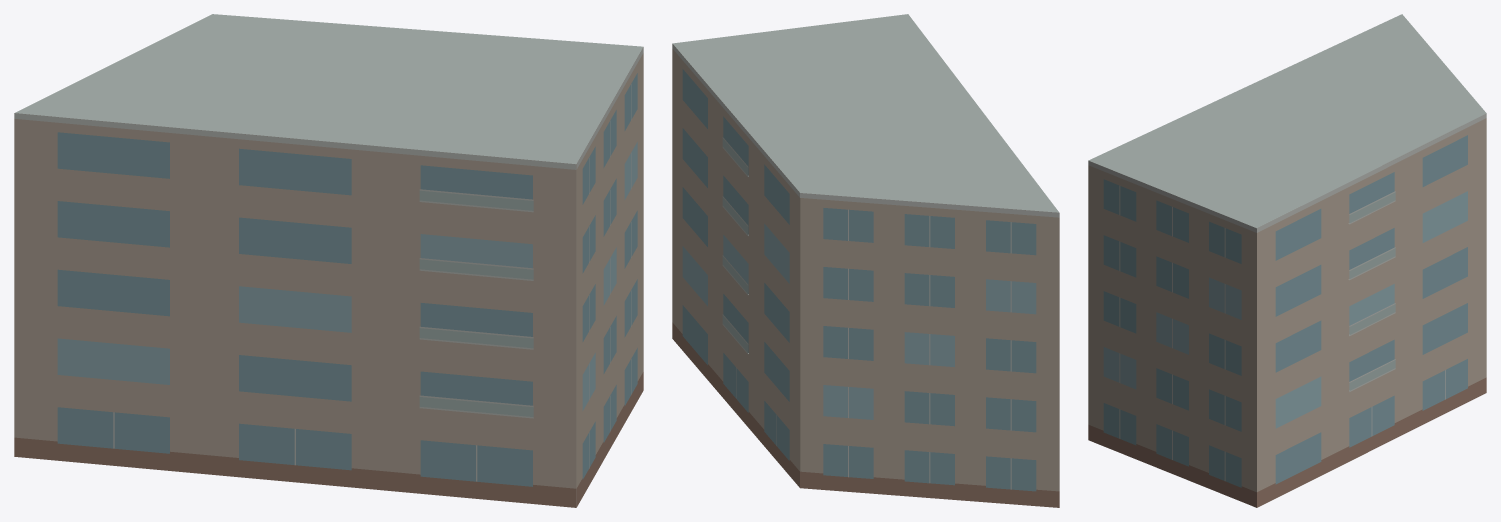
File: survey-upis-32665405.glb
The picture shows the model from 3 angles, left to right: view 1: azimuth 30°, elevation 25°; view 2: azimuth 150°, elevation 25°; view 3: azimuth 270°, elevation 25°; orthographic projection. The views are drawn at different scales.
Parts seen in each view (by area): view 1: survey-upis-32665405.tmp; view 2: survey-upis-32665405.tmp; view 3: survey-upis-32665405.tmp.
Boxes of the visible parts, bbox=[...] form: survey-upis-32665405.tmp: bbox=[14, 14, 643, 507]; survey-upis-32665405.tmp: bbox=[672, 14, 1059, 507]; survey-upis-32665405.tmp: bbox=[1088, 14, 1486, 507].
Size of the model in its own units: 24.05 by 14.62 by 18.89.
